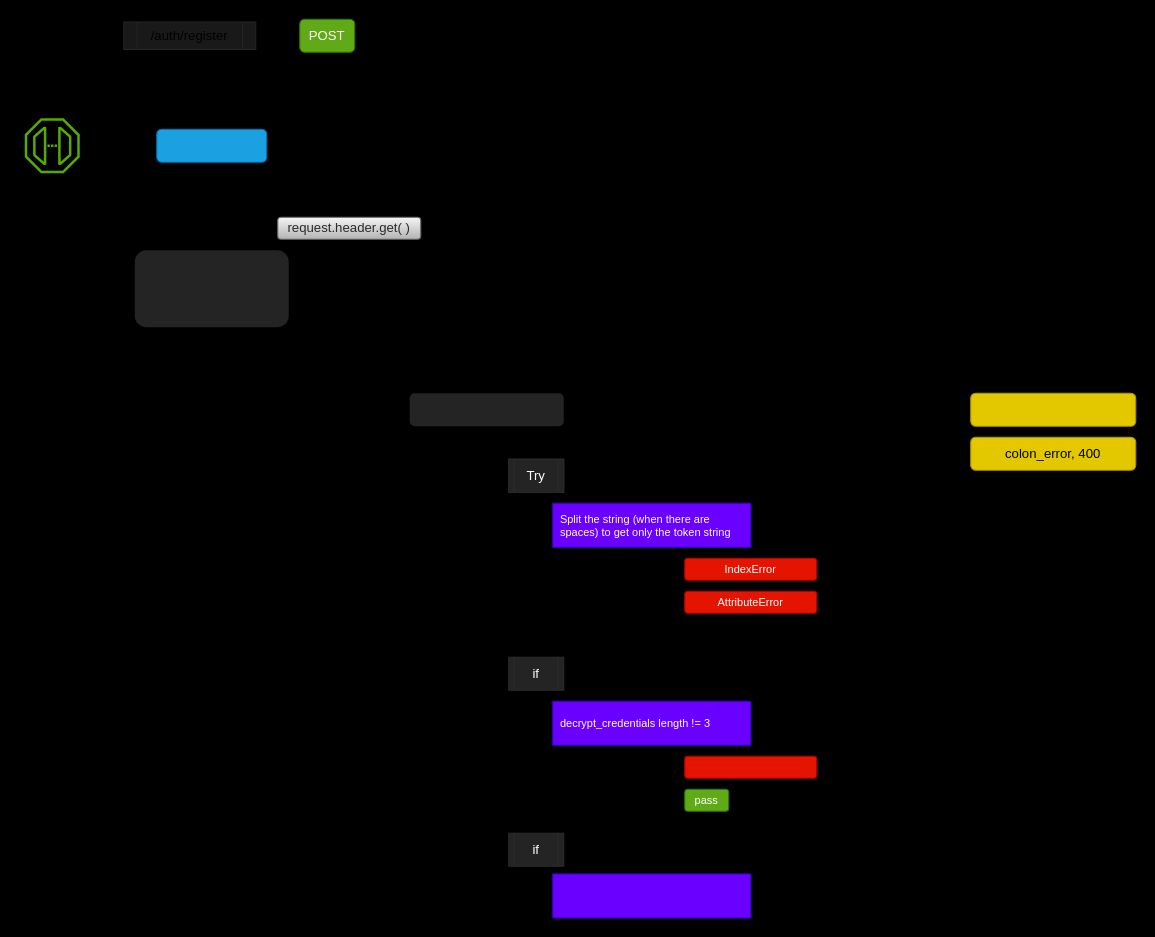
Some shapes in this 1155 by 937 pixel diagram are drawn without their labels. The shapes that lost their labels are listed below. From the top down, each one's centre as x and y in pixels, then its label:
pixel 211 145: "Register"
pixel 211 288: exec_register
pixel 486 409: read_authentication
pixel 1053 409: invalid_header_data, 400
pixel 750 766: colon_error
pixel 651 895: decrypt_credentials exists and their length is > 0
